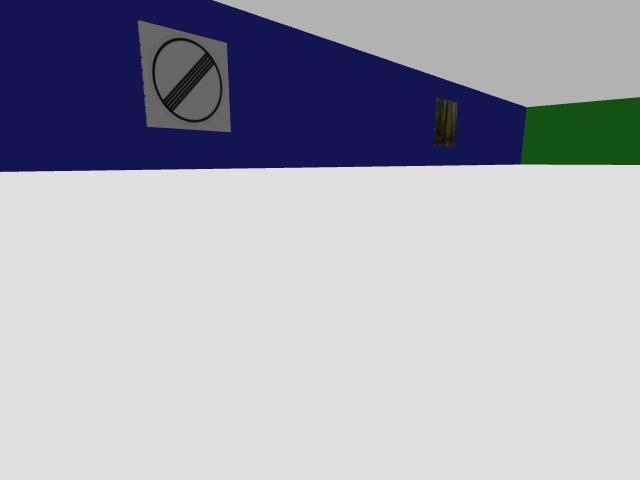fastsign: (139, 21, 229, 131)
